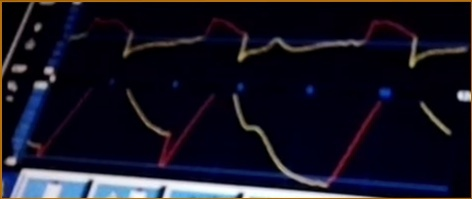Ineffective_effort Flow: (69, 16, 465, 71)
Ineffective_effort Volume: (28, 89, 448, 188)
